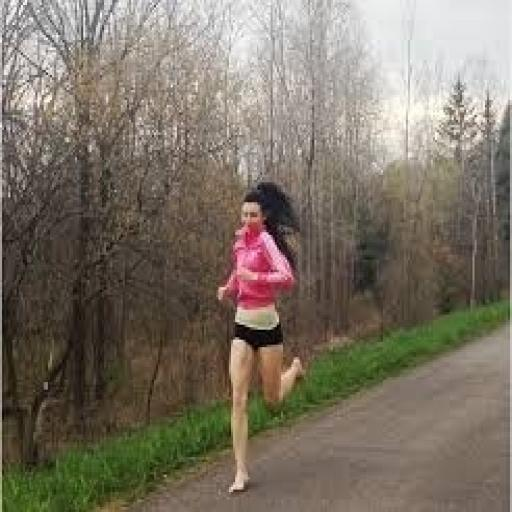running: (212, 180, 310, 497)
